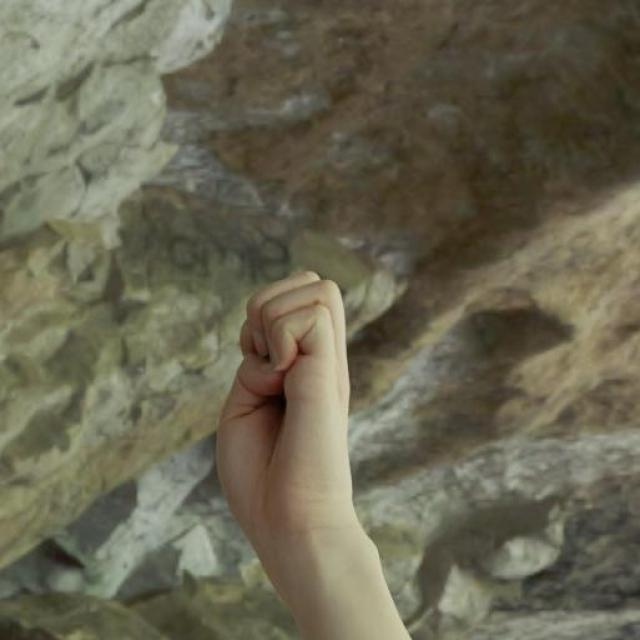E: (208, 268, 360, 530)
